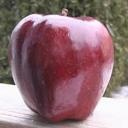apple: (8, 11, 116, 122)
